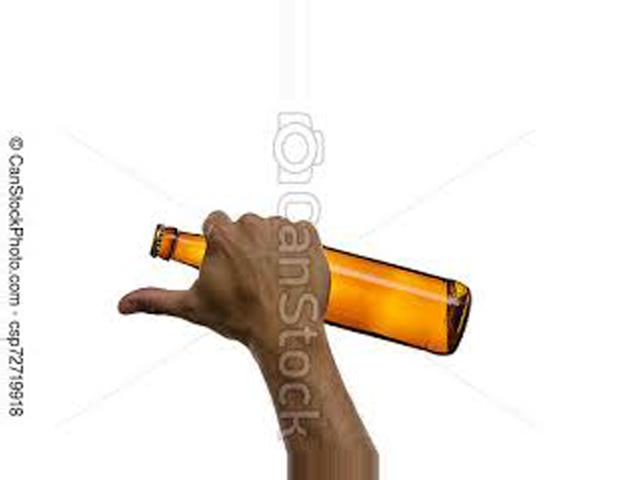beer: (151, 226, 469, 356)
